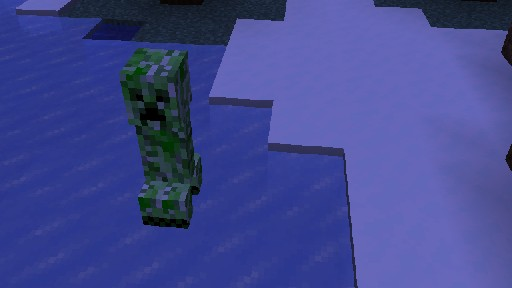creeper: (118, 47, 203, 228)
